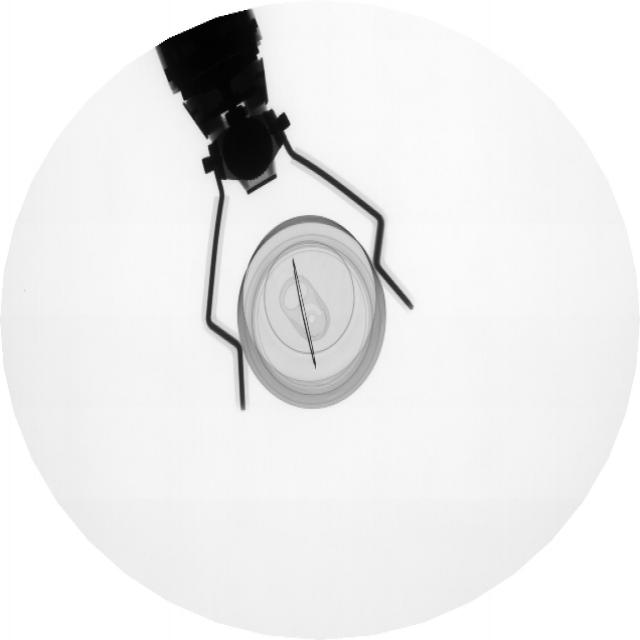BLADE: (288, 252, 324, 377)
